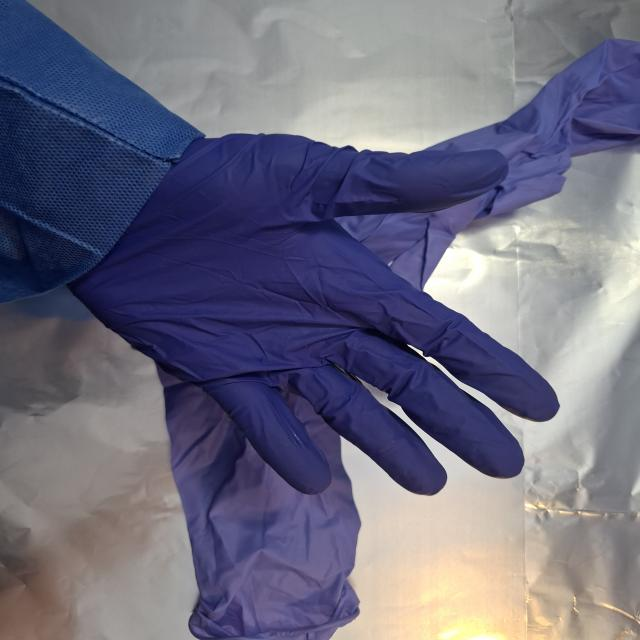glove_on: (64, 130, 564, 498)
